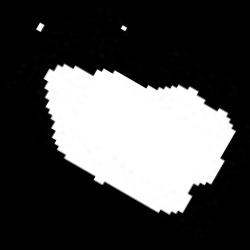pinhole: (36, 23, 44, 32), (122, 26, 128, 30)
spot: (43, 63, 235, 214)
